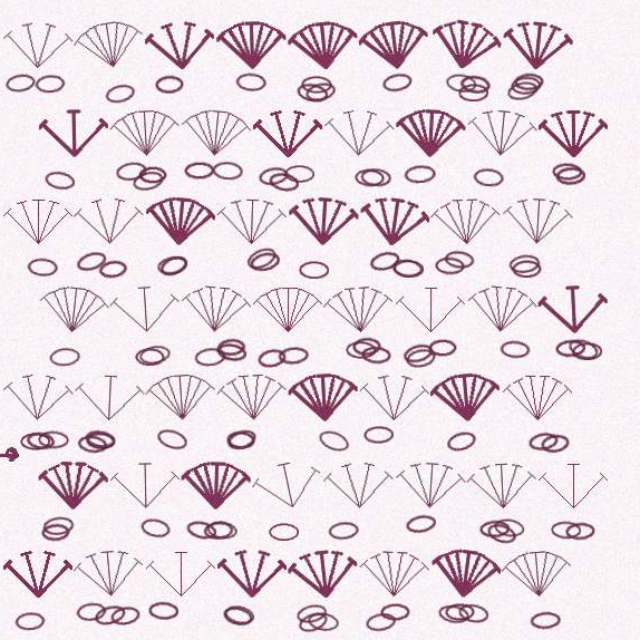chain: (233, 254, 264, 279), (298, 418, 329, 443), (153, 417, 184, 441), (155, 261, 185, 285), (522, 336, 552, 360), (216, 417, 246, 441), (280, 581, 310, 605), (97, 575, 128, 598), (81, 258, 111, 281), (413, 419, 443, 442), (449, 502, 479, 525), (107, 108, 137, 130), (132, 186, 162, 208), (344, 258, 374, 280), (374, 341, 404, 363), (287, 107, 316, 128), (468, 106, 497, 127), (237, 259, 266, 280), (139, 498, 168, 519), (180, 500, 209, 521), (213, 577, 242, 598), (214, 576, 243, 597), (279, 575, 308, 596), (279, 108, 309, 128), (138, 343, 168, 363), (406, 576, 436, 596), (356, 99, 385, 119), (53, 187, 82, 207), (254, 188, 283, 208), (245, 183, 274, 203), (154, 263, 183, 283), (207, 341, 236, 361), (377, 346, 406, 366), (89, 419, 118, 439), (487, 421, 516, 441), (377, 495, 406, 515), (112, 577, 141, 597), (341, 583, 370, 603), (424, 575, 453, 595), (117, 179, 147, 198), (289, 583, 319, 602), (244, 346, 272, 366), (18, 100, 47, 119), (413, 100, 442, 119), (470, 262, 499, 281), (52, 497, 81, 516), (456, 499, 485, 518), (426, 101, 454, 120), (365, 266, 393, 285), (83, 424, 111, 443), (498, 423, 526, 442), (199, 501, 227, 520), (82, 574, 110, 593), (376, 182, 405, 200), (188, 346, 217, 364), (102, 267, 129, 286), (37, 421, 64, 440), (45, 101, 73, 119), (204, 179, 232, 197), (337, 185, 365, 203), (438, 185, 466, 203), (412, 259, 440, 277), (58, 346, 86, 364), (263, 345, 291, 363), (308, 502, 336, 520), (27, 583, 55, 601), (225, 100, 253, 117), (38, 266, 66, 283), (462, 340, 490, 357), (48, 421, 76, 438), (196, 502, 224, 519), (489, 583, 517, 600), (472, 103, 499, 120), (475, 100, 502, 117), (332, 186, 359, 203), (512, 184, 539, 201), (404, 265, 431, 282), (208, 338, 235, 355), (338, 345, 365, 362), (512, 339, 539, 356), (91, 422, 118, 439), (444, 501, 471, 518), (508, 502, 535, 519), (521, 503, 548, 520), (147, 574, 174, 591), (284, 103, 312, 119), (153, 102, 179, 119), (330, 337, 356, 354), (217, 421, 243, 438), (51, 504, 77, 521), (425, 110, 452, 126), (179, 180, 206, 196), (269, 183, 296, 199), (509, 181, 536, 197), (282, 269, 309, 285), (367, 268, 394, 284), (473, 268, 500, 284), (135, 347, 162, 363), (324, 341, 351, 357), (527, 342, 554, 358), (32, 423, 59, 439), (340, 417, 367, 433), (255, 504, 282, 520), (355, 576, 382, 592), (413, 576, 440, 592), (138, 184, 164, 200), (398, 339, 424, 355)
fan: (237, 442, 307, 499), (397, 47, 466, 104), (78, 48, 146, 103), (334, 207, 401, 261), (334, 49, 401, 102), (398, 523, 465, 576), (271, 50, 337, 102), (463, 50, 529, 102), (47, 287, 113, 339), (271, 524, 337, 576), (431, 129, 497, 180), (431, 287, 497, 338), (175, 129, 240, 180), (143, 208, 208, 259), (175, 287, 240, 338), (399, 366, 464, 417), (79, 524, 144, 575), (143, 51, 208, 101), (303, 288, 368, 338), (463, 525, 528, 575), (112, 130, 176, 179), (304, 130, 368, 179), (368, 130, 432, 179), (272, 209, 336, 258), (464, 209, 528, 258), (112, 288, 176, 337), (496, 288, 560, 337), (16, 367, 80, 416), (144, 367, 208, 416), (208, 367, 272, 416), (272, 367, 336, 416), (368, 446, 432, 495), (16, 52, 80, 100), (80, 368, 144, 416), (432, 447, 496, 495), (208, 210, 271, 258), (400, 210, 463, 258), (336, 368, 399, 416), (336, 526, 399, 574), (208, 52, 271, 99), (80, 210, 143, 257), (48, 447, 111, 494), (176, 447, 239, 494), (304, 447, 367, 494), (49, 131, 111, 178), (113, 447, 175, 494), (209, 526, 271, 573), (241, 132, 303, 178), (497, 132, 559, 178), (17, 211, 79, 257), (241, 290, 303, 336), (369, 290, 431, 336), (465, 369, 527, 415), (497, 448, 559, 494), (17, 527, 79, 573), (145, 527, 207, 573)
noise: (592, 577, 615, 600), (1, 437, 33, 449), (17, 434, 31, 448)
